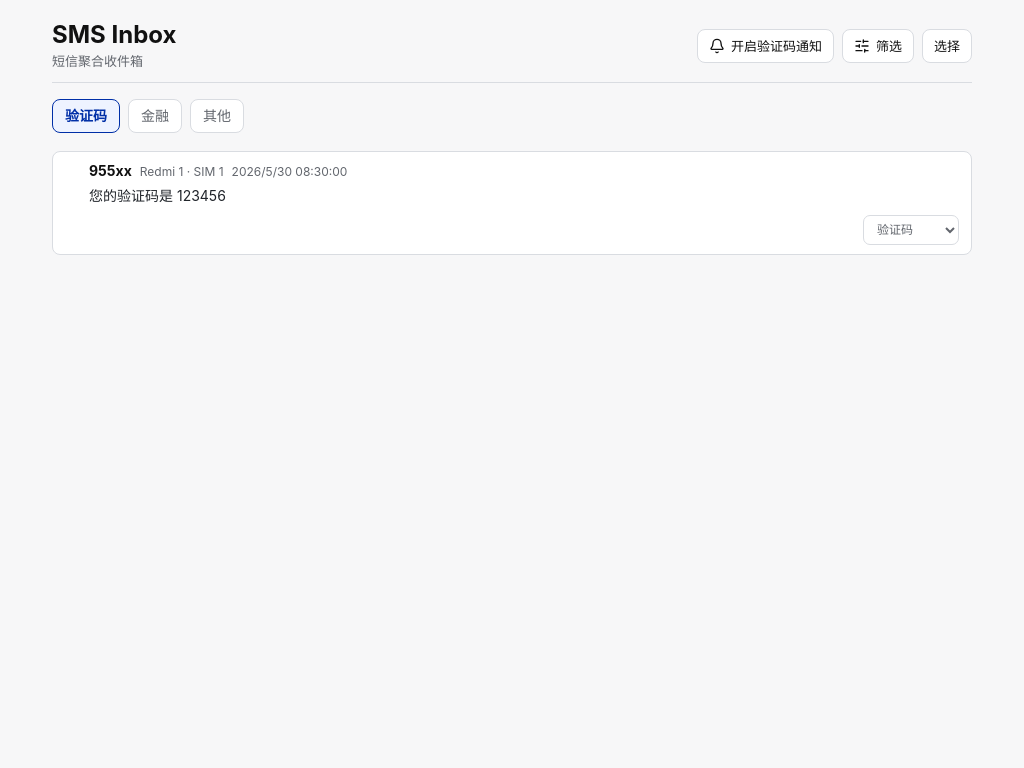
Test: InboxApp › does not send a read patch for an already-read message
expect the text "您的验证码是 123456" is shown: met, box [89,187,226,204]
Step 1. Click the button with aria-label "短信 955xx" → (110, 171), box [89,162,347,204]
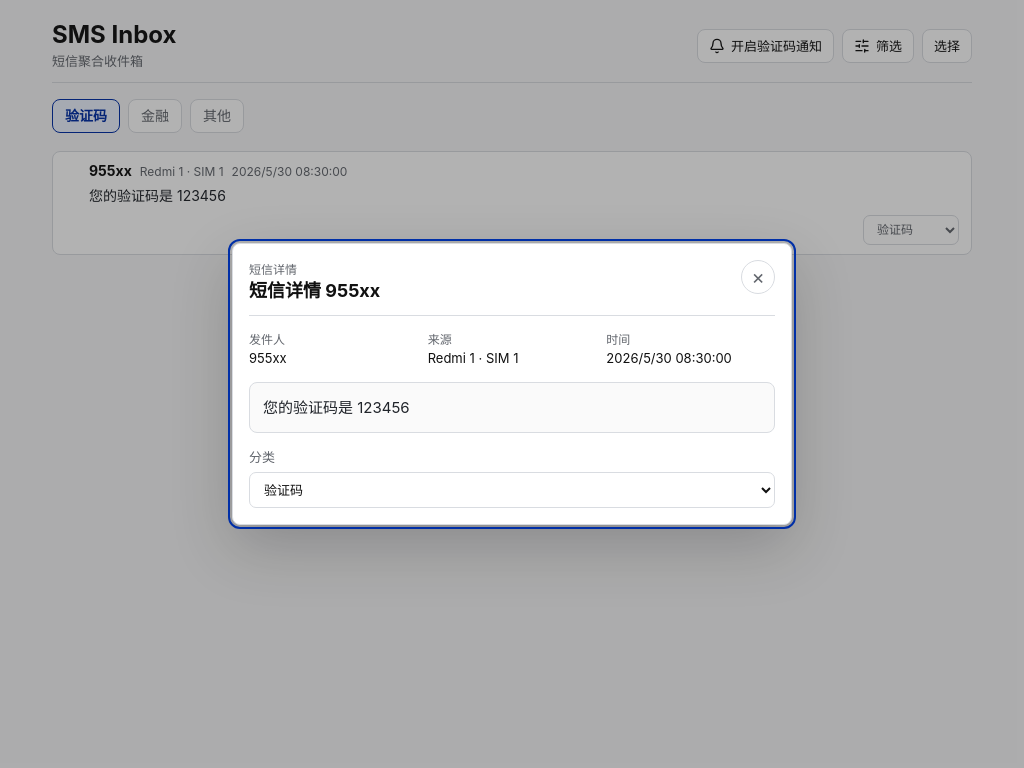
expect the dialog "短信详情 955xx" is shown: met, box [232,243,792,525]
